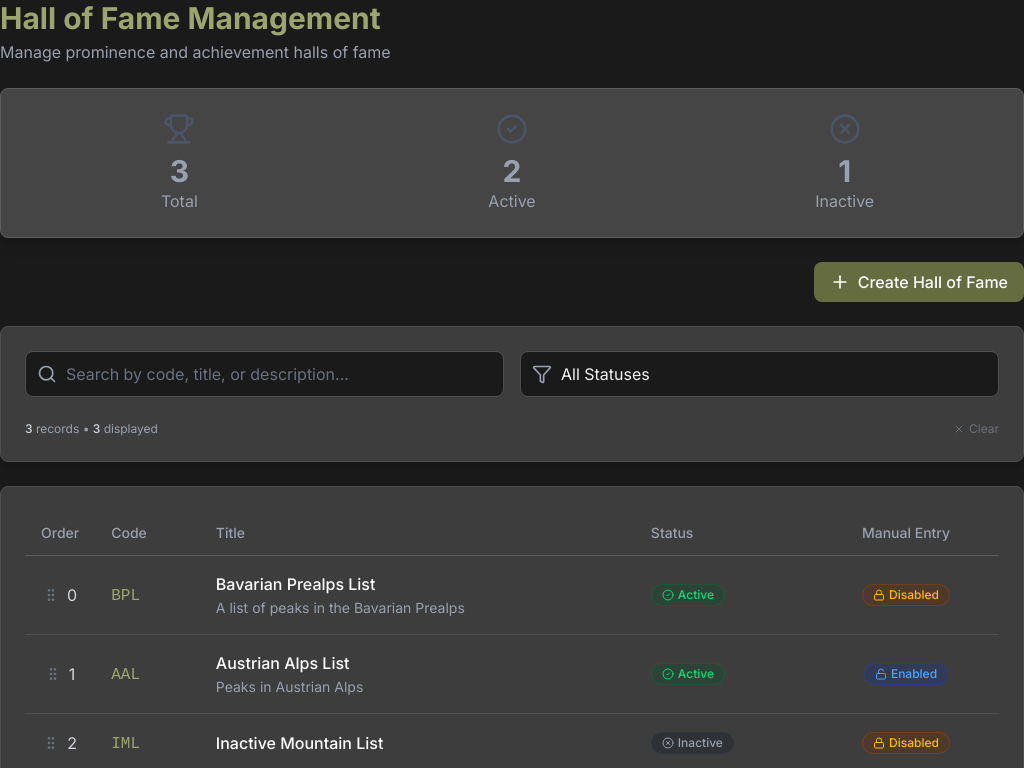
Scenario: HofManagement › should filter by code search
The width and height of the screenshot is (1024, 768).
Expected: the text "BPL" is shown, [111, 587, 140, 605]
Type "BPL" into the field with placeholder "Search by code, title, or description...".
click(264, 374); type("BPL")  # box [25, 351, 504, 397]
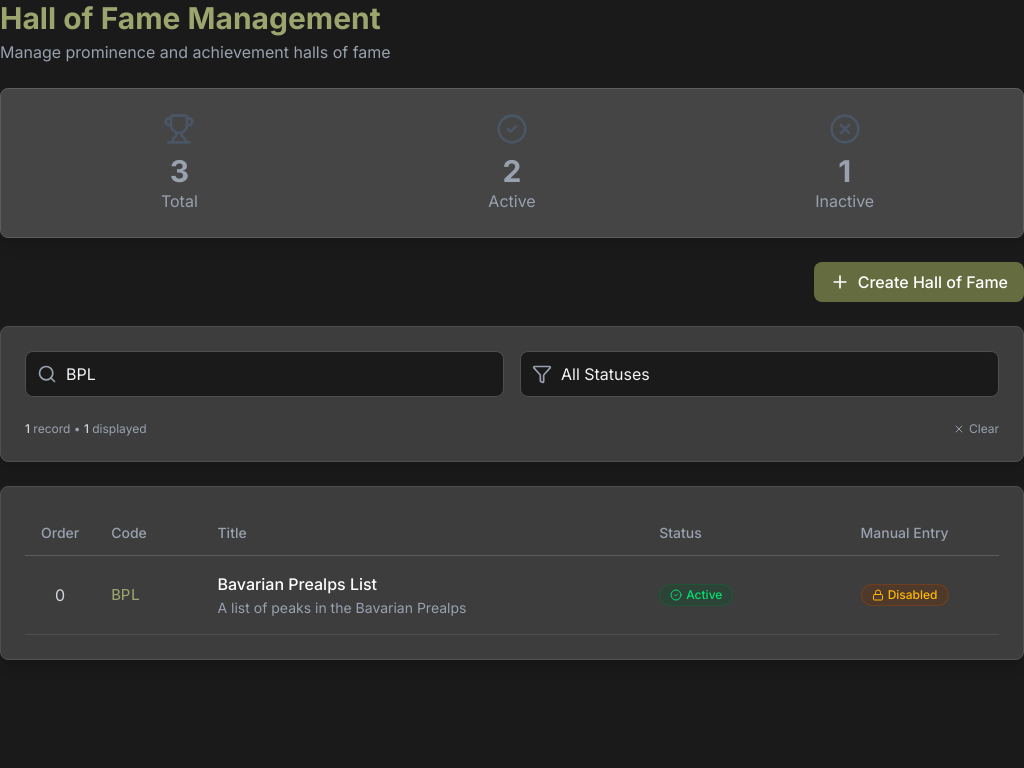
Expected: the text "BPL" is shown, [111, 587, 140, 605]
Now the text "AAL" is gone
